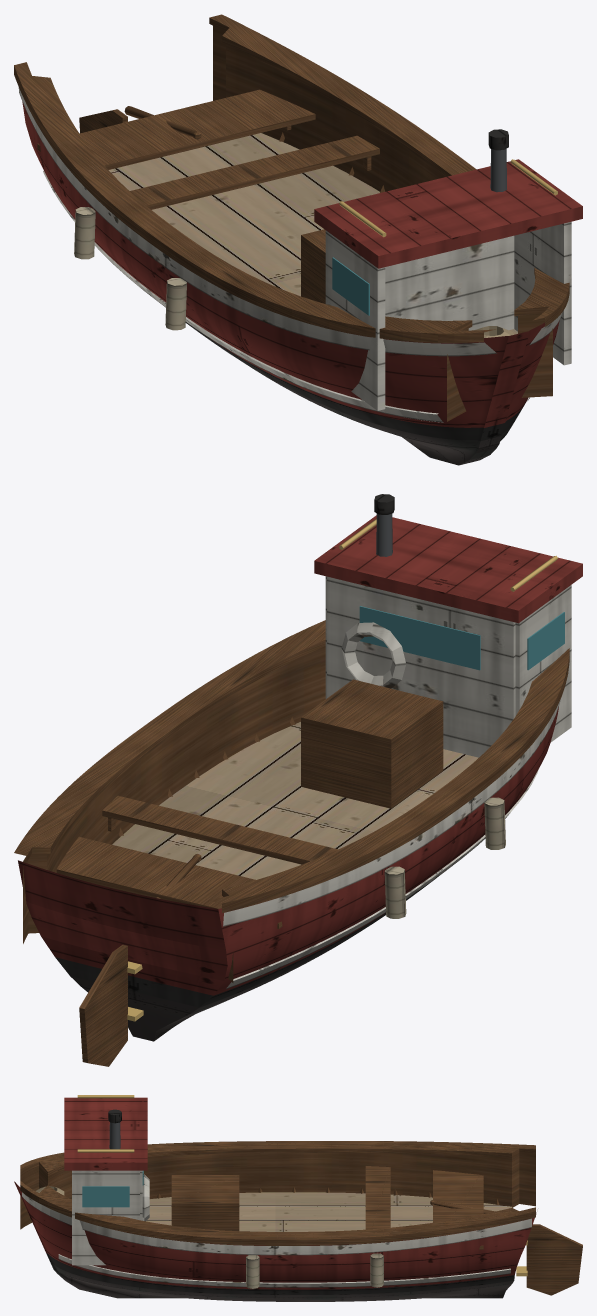
The model's file is SM_CabinLaunch.glb.
3 renders of one model, top to bottom at view 1: azimuth 30°, elevation 25°; view 2: azimuth 150°, elevation 25°; view 3: azimuth 270°, elevation 25°, orthographic. The views are drawn at different scales.
Visible parts, largest first — view 1: SM_CabinLaunch; view 2: SM_CabinLaunch; view 3: SM_CabinLaunch.
Boxes of the visible parts, <box> form: SM_CabinLaunch: <box>14,14,582,465</box>; SM_CabinLaunch: <box>14,494,582,1066</box>; SM_CabinLaunch: <box>14,1095,582,1301</box>.
Size of the model in its own units: 2.25 by 1.96 by 5.04.
Materials: 11 (7 with a texture image).
